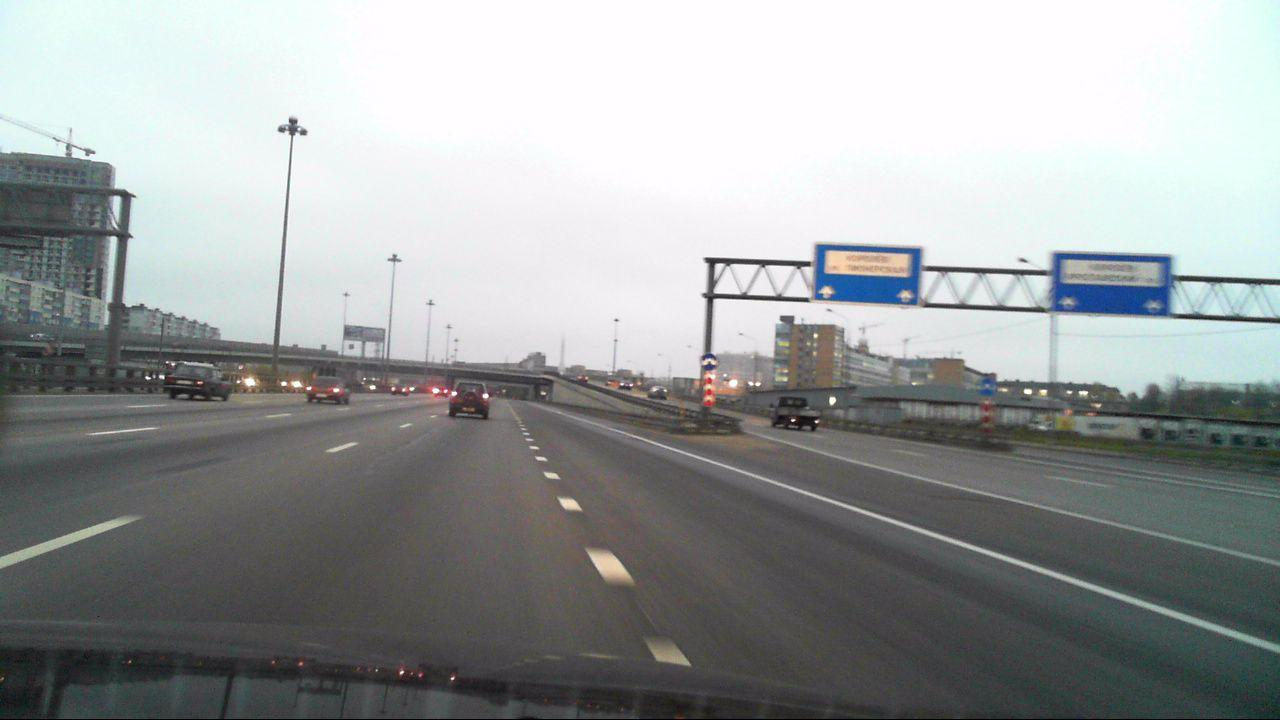road_sign: (702, 369, 717, 407), (701, 352, 718, 371)
